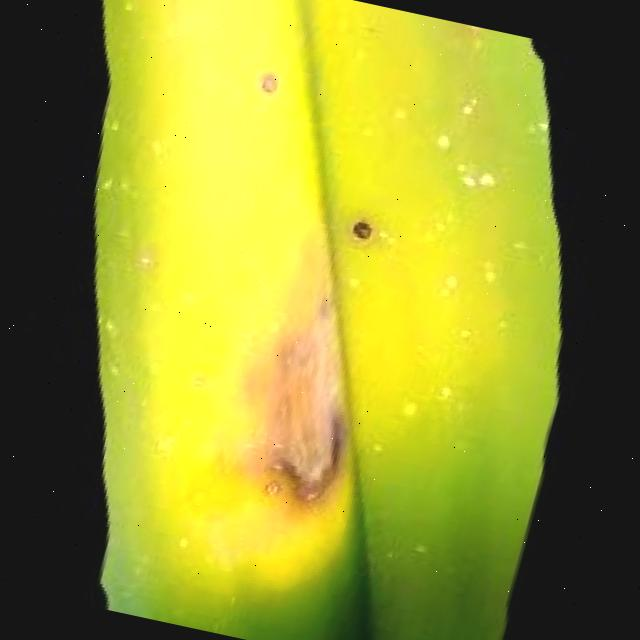mite: (213, 58, 424, 254), (325, 190, 408, 268), (241, 55, 296, 108), (337, 201, 391, 253), (249, 62, 286, 97), (351, 215, 377, 239), (256, 69, 281, 93)
